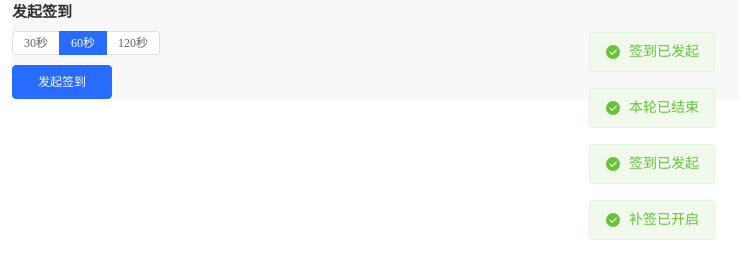
components/ClassRoom/CheckinPanel.vue › 发起失败时提示错误且不抛出
Click the button "发起签到": (62, 82) [12,65,112,99]
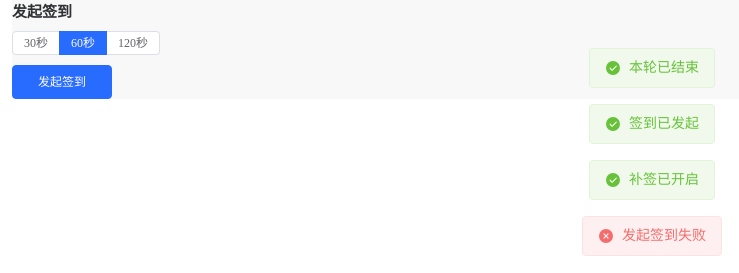
Expected: the text "发起签到失败" is shown, [622,229,706,243]
